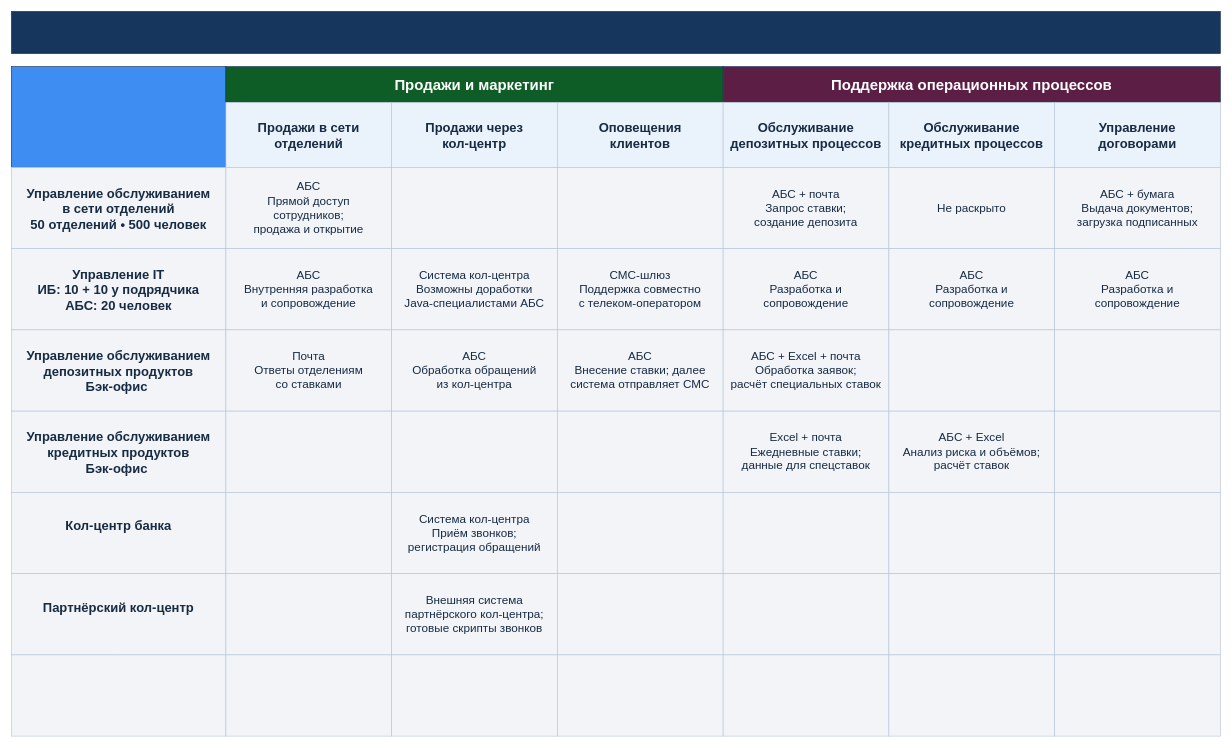
Some shapes in this 1232 by 748 pixel diagram are drawn without their labels. Each missing label, with the centre of its shape:
"Банк «Стандарт» • Карта текущего IT-ландшафта (AS IS)" goes at pixel 615 32.
"Команда цифровой трансформации розничного бизнеса." goes at pixel 118 695.
"Организационное направление" goes at pixel 118 116.
